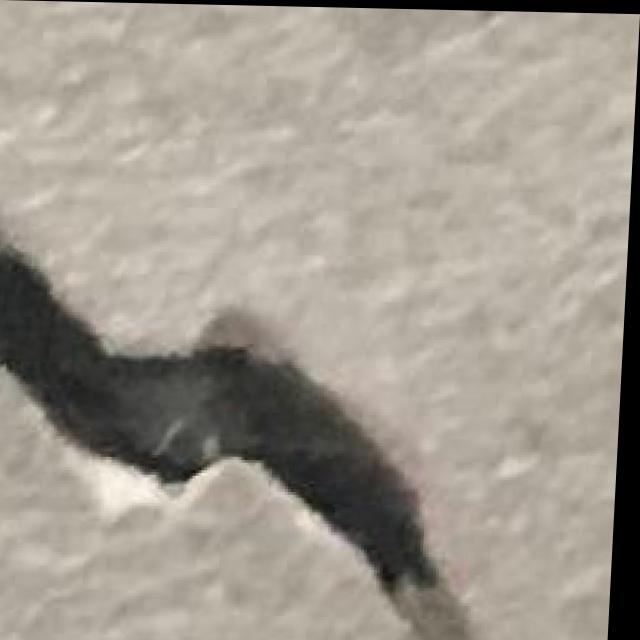Crack: (0, 217, 459, 600)
